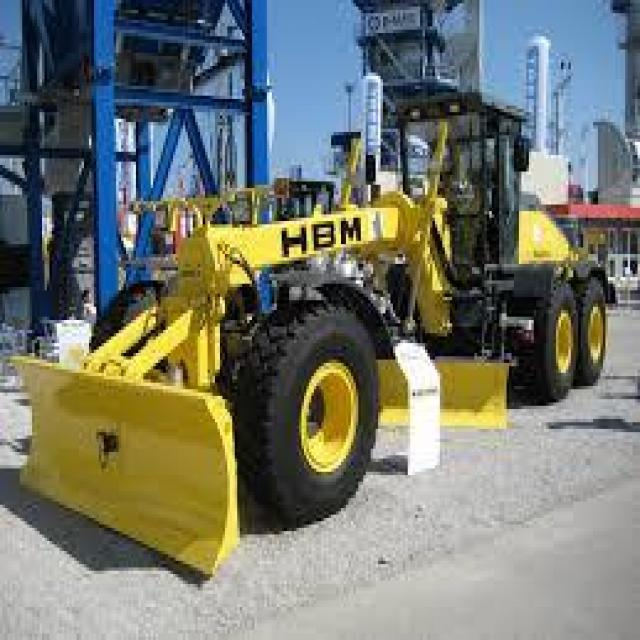Grader: (45, 69, 625, 548)
